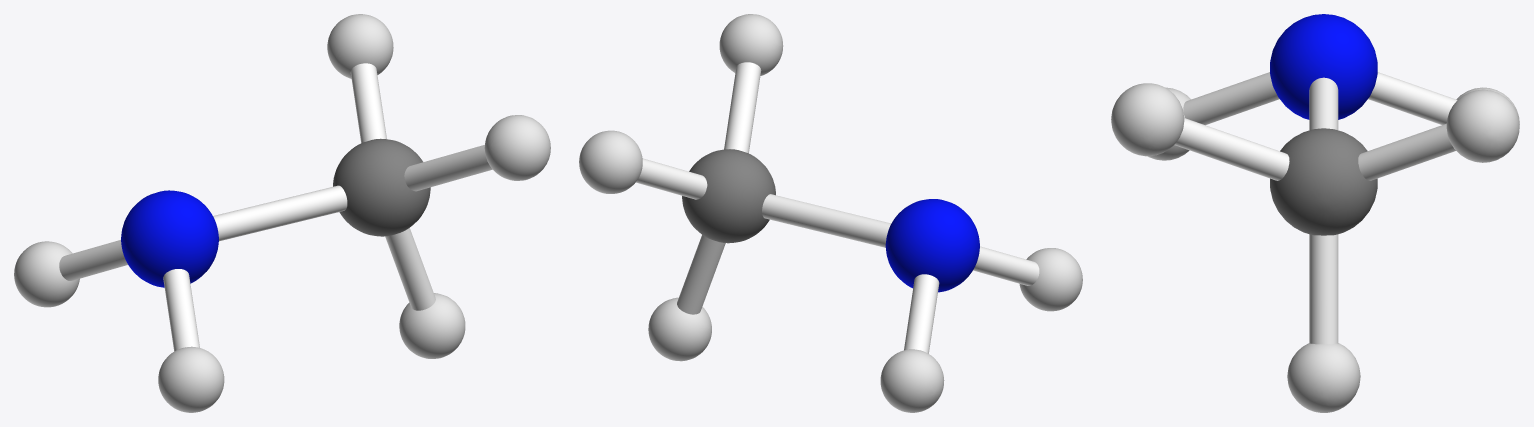
Rendered from Methylamine.dae.
3 renders of one model, left to right at view 1: azimuth 30°, elevation 25°; view 2: azimuth 150°, elevation 25°; view 3: azimuth 270°, elevation 25°, orthographic. The views are drawn at different scales.
Parts seen in each view (by area): view 1: Methylamine_pSphere17, Methylamine_pSphere22, Methylamine_pCylinder16, Methylamine_pSphere16, Methylamine_pSphere23, Methylamine_pSphere21, Methylamine_pSphere20, Methylamine_pSphere15, Methylamine_pCylinder18, Methylamine_pCylinder20, Methylamine_pCylinder15, Methylamine_pCylinder19 (+1 smaller); view 2: Methylamine_pSphere17, Methylamine_pSphere22, Methylamine_pCylinder16, Methylamine_pSphere20, Methylamine_pSphere15, Methylamine_pSphere21, Methylamine_pSphere23, Methylamine_pSphere16, Methylamine_pCylinder18, Methylamine_pCylinder20, Methylamine_pCylinder14, Methylamine_pCylinder19 (+1 smaller); view 3: Methylamine_pSphere22, Methylamine_pSphere17, Methylamine_pSphere23, Methylamine_pSphere20, Methylamine_pSphere21, Methylamine_pCylinder18, Methylamine_pCylinder20, Methylamine_pCylinder19, Methylamine_pCylinder15, Methylamine_pCylinder14, Methylamine_pCylinder16, Methylamine_pSphere16.
Boxes of the visible parts, x1,y1,x2,y2 form: Methylamine_pSphere17: [121, 190, 218, 287]; Methylamine_pSphere22: [333, 138, 430, 236]; Methylamine_pCylinder16: [213, 185, 347, 241]; Methylamine_pSphere16: [158, 346, 224, 412]; Methylamine_pSphere23: [484, 115, 550, 180]; Methylamine_pSphere21: [399, 293, 465, 358]; Methylamine_pSphere20: [327, 14, 393, 78]; Methylamine_pSphere15: [14, 241, 79, 307]; Methylamine_pCylinder18: [404, 145, 492, 191]; Methylamine_pCylinder20: [385, 228, 435, 310]; Methylamine_pCylinder15: [163, 269, 199, 351]; Methylamine_pCylinder19: [350, 63, 386, 142]; Methylamine_pSphere17: [885, 199, 979, 292]; Methylamine_pSphere22: [682, 149, 775, 243]; Methylamine_pCylinder16: [762, 194, 891, 247]; Methylamine_pSphere20: [579, 130, 642, 193]; Methylamine_pSphere15: [880, 349, 944, 412]; Methylamine_pSphere21: [648, 297, 711, 361]; Methylamine_pSphere23: [719, 14, 783, 75]; Methylamine_pSphere16: [1019, 248, 1082, 311]; Methylamine_pCylinder18: [724, 62, 761, 153]; Methylamine_pCylinder20: [677, 235, 725, 314]; Methylamine_pCylinder14: [904, 274, 939, 353]; Methylamine_pCylinder19: [636, 158, 707, 199]; Methylamine_pSphere22: [1270, 128, 1377, 235]; Methylamine_pSphere17: [1270, 14, 1377, 119]; Methylamine_pSphere23: [1111, 83, 1184, 156]; Methylamine_pSphere20: [1446, 89, 1519, 162]; Methylamine_pSphere21: [1287, 343, 1360, 412]; Methylamine_pCylinder18: [1174, 118, 1289, 180]; Methylamine_pCylinder20: [1309, 234, 1338, 344]; Methylamine_pCylinder19: [1358, 123, 1455, 180]; Methylamine_pCylinder15: [1183, 72, 1279, 125]; Methylamine_pCylinder14: [1368, 72, 1457, 124]; Methylamine_pCylinder16: [1309, 77, 1338, 130]; Methylamine_pSphere16: [1148, 87, 1190, 160].
Size of what is drawn, in the model's own units: 1.77 by 1.51 by 1.33.
